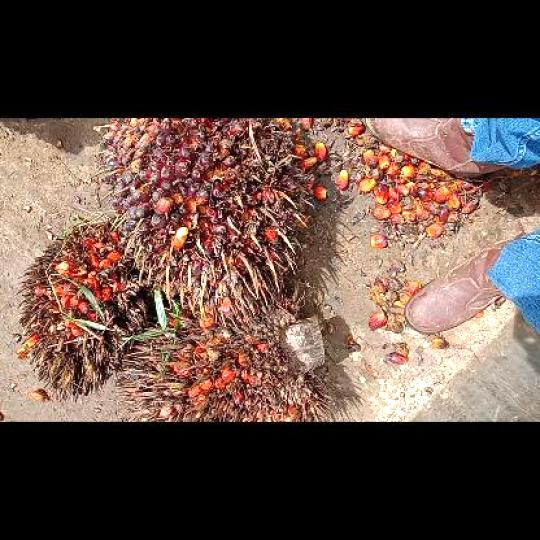masak: (96, 118, 318, 329)
terlalu masak: (112, 301, 332, 421), (15, 222, 149, 400)
